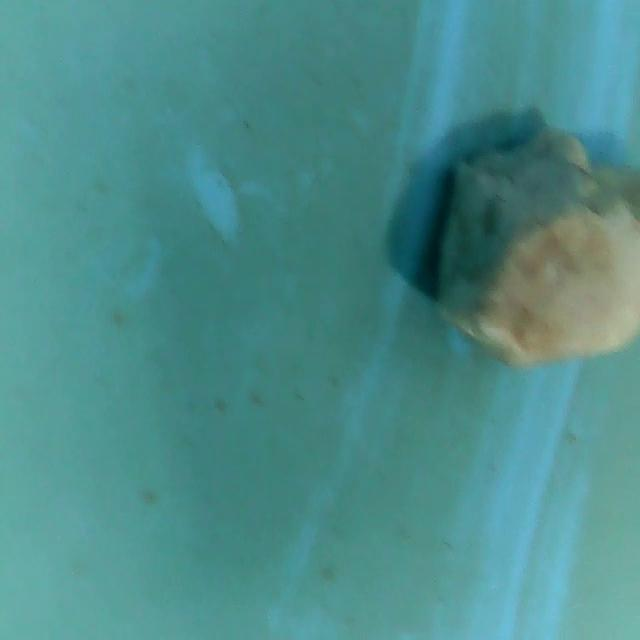rock: (420, 113, 640, 388)
